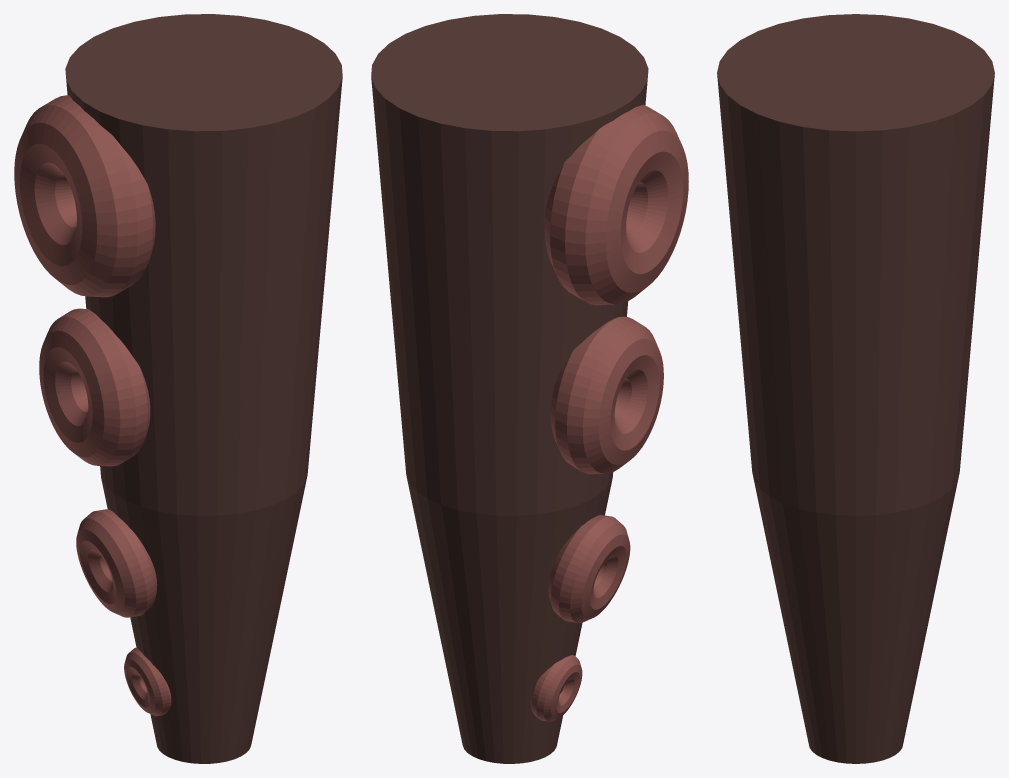
3 renders of one model, left to right at view 1: azimuth 30°, elevation 25°; view 2: azimuth 150°, elevation 25°; view 3: azimuth 270°, elevation 25°, orthographic.
Visible parts, largest first — view 1: Torus.016; view 2: Torus.016; view 3: Torus.016.
Part boxes in pixels (x1,y1,x2,y2): Torus.016: [14, 14, 342, 763]; Torus.016: [371, 14, 688, 763]; Torus.016: [717, 14, 994, 763].
Size of the model in its own units: 70.25 by 168 by 63.11.
